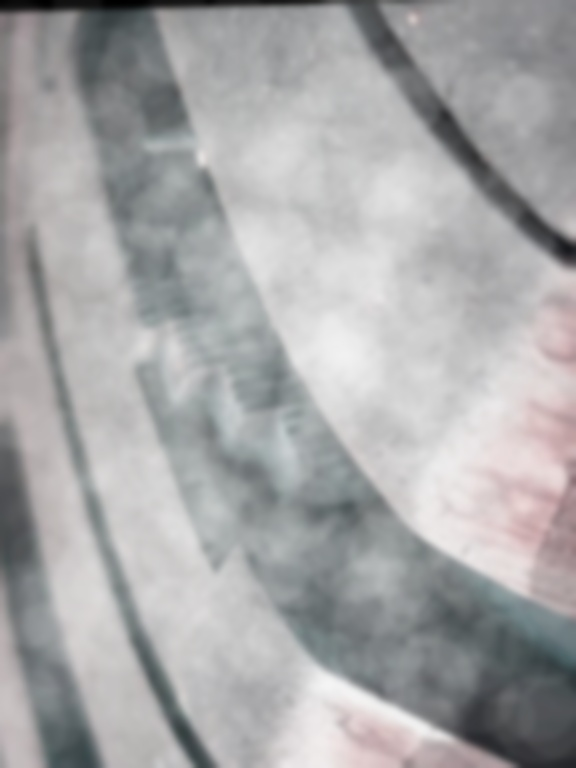temoin:90: (87, 236, 387, 592)
